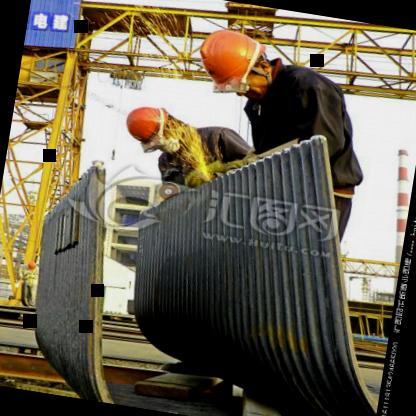helmet: (177, 19, 276, 102), (116, 94, 178, 155)
